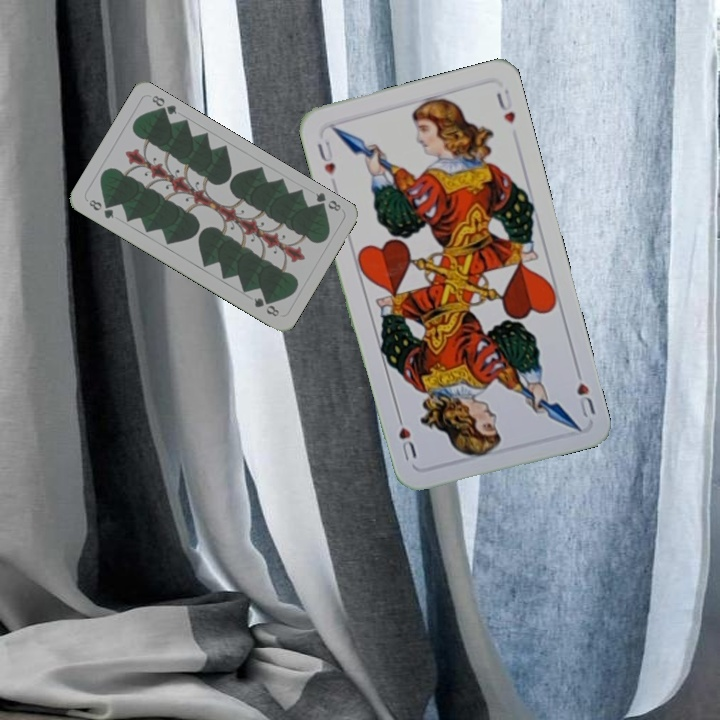G8: (85, 195, 117, 221), (311, 189, 344, 214)
HU: (572, 363, 598, 420), (313, 136, 338, 177)
